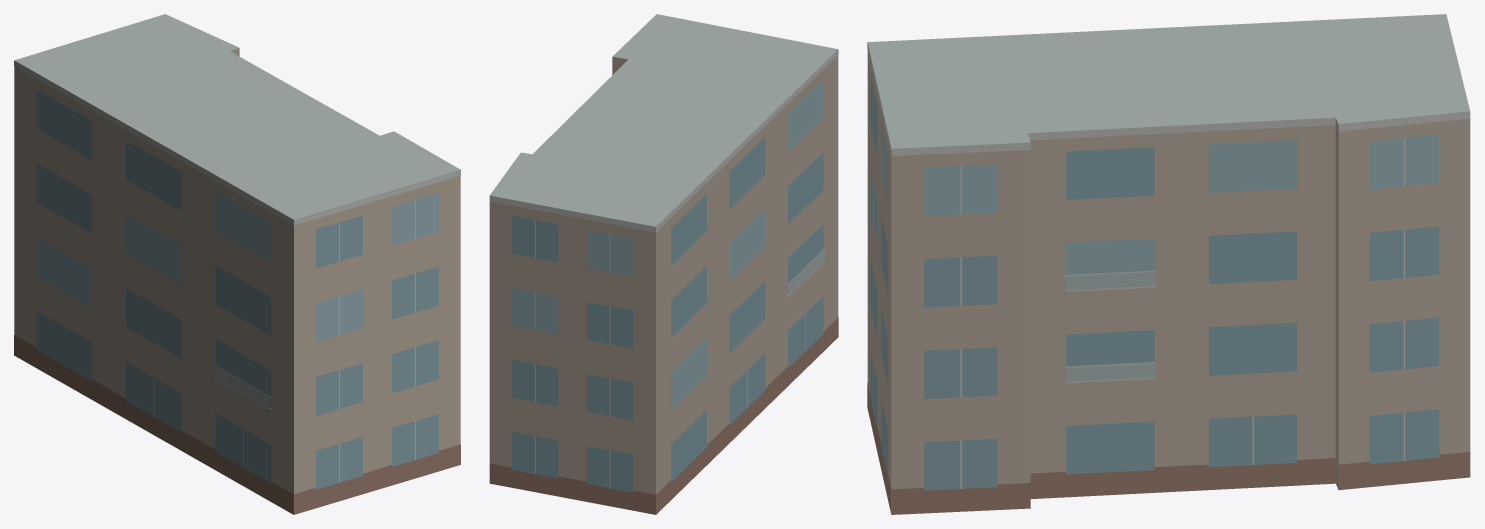
The model's file is survey-upis-32592390.glb.
3 renders of one model, left to right at view 1: azimuth 30°, elevation 25°; view 2: azimuth 150°, elevation 25°; view 3: azimuth 270°, elevation 25°, orthographic. The views are drawn at different scales.
Visible parts, largest first — view 1: survey-upis-32592390.tmp; view 2: survey-upis-32592390.tmp; view 3: survey-upis-32592390.tmp.
Part boxes in pixels (x1,y1,x2,y2): survey-upis-32592390.tmp: (14,14,460,514); survey-upis-32592390.tmp: (489,14,838,514); survey-upis-32592390.tmp: (867,14,1470,514).
Bounding box in the file's own units: 9.65 × 12.2 × 18.22.
